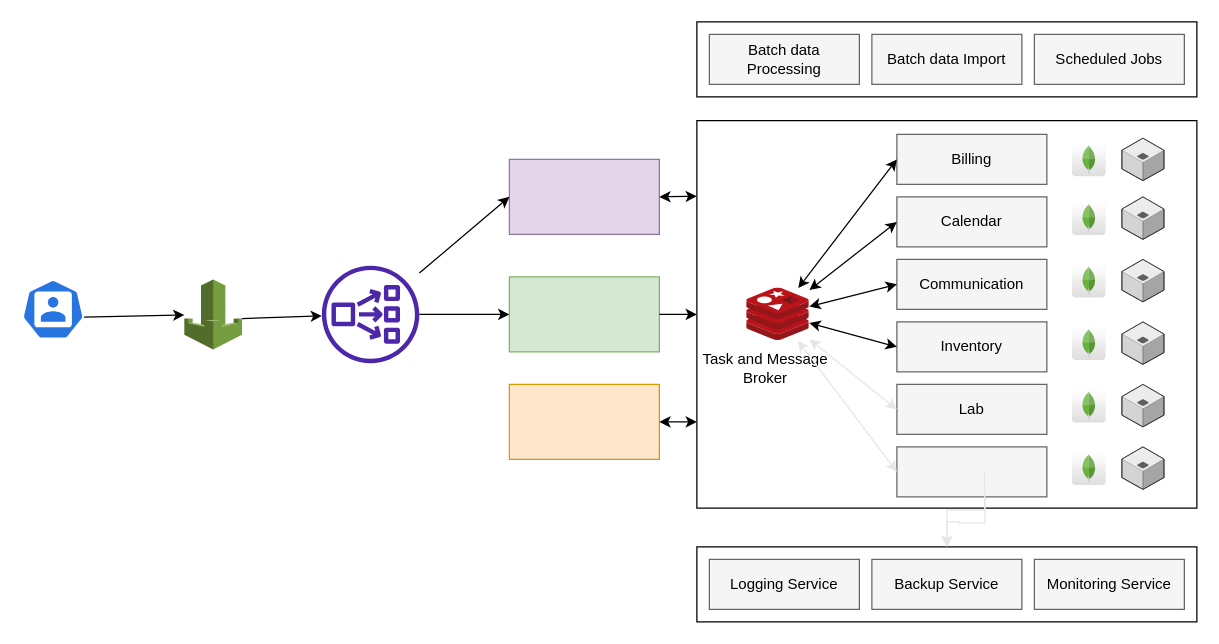
The diagram is 1219 pixels wide and 644 high, and some of its shapes have lost their labels. Here are the shapes that lost their labels. From the top down, the centre of each, then its label:
point 583,196: Web Socket Endpoints
point 583,314: Public Rest API
point 583,421: Internal Rest API
point 971,471: Consultation
